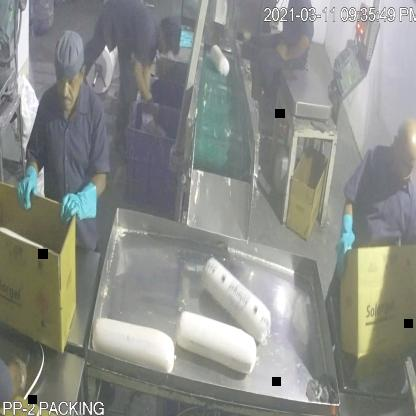glove: (327, 204, 363, 283), (60, 172, 100, 236), (18, 159, 40, 216)
no_glove: (3, 336, 37, 412), (267, 29, 318, 75), (128, 55, 158, 115)
